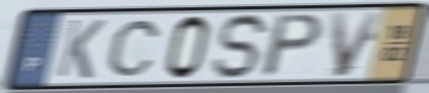0: (164, 14, 213, 81)
C: (105, 18, 163, 79)
K: (53, 17, 108, 81)
P: (257, 11, 327, 80)
S: (210, 11, 275, 82)
V: (328, 8, 385, 80)
